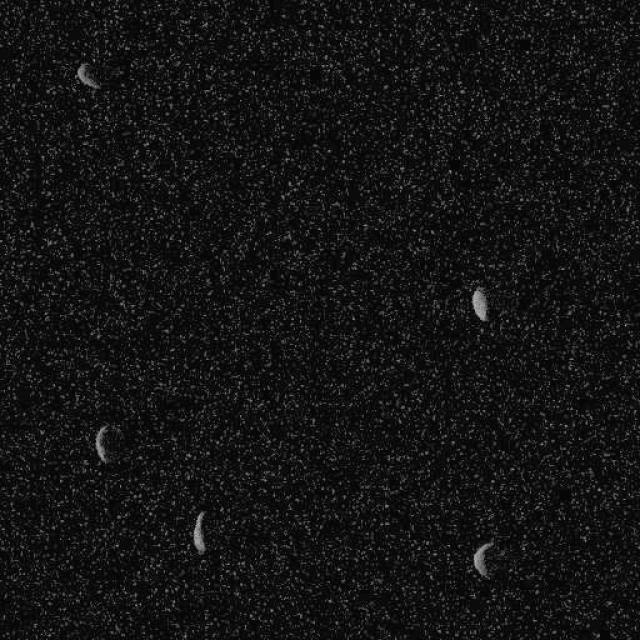D2: (94, 423, 124, 465), (472, 538, 493, 578), (75, 61, 100, 90), (470, 286, 489, 322), (192, 510, 206, 555)
